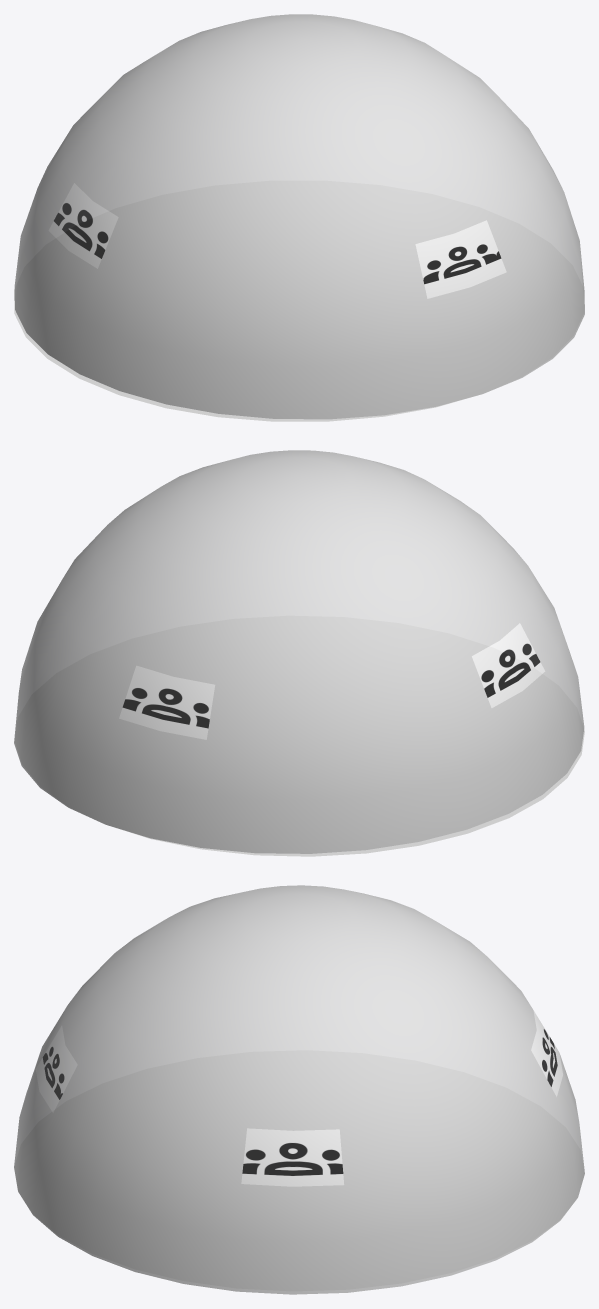
Rendered from dome_i3.glb.
The picture shows the model from 3 angles, top to bottom: view 1: azimuth 30°, elevation 25°; view 2: azimuth 150°, elevation 25°; view 3: azimuth 270°, elevation 25°; orthographic projection.
Parts seen in each view (by area): view 1: dome_i3; view 2: dome_i3; view 3: dome_i3.
Boxes of the visible parts, x1,y1,x2,y2 form: dome_i3: [14, 14, 584, 421]; dome_i3: [14, 450, 584, 856]; dome_i3: [14, 885, 584, 1294].
Bounding box in the file's own units: 1.4 × 0.7096 × 1.4.
Materials: 2 (1 with a texture image).
